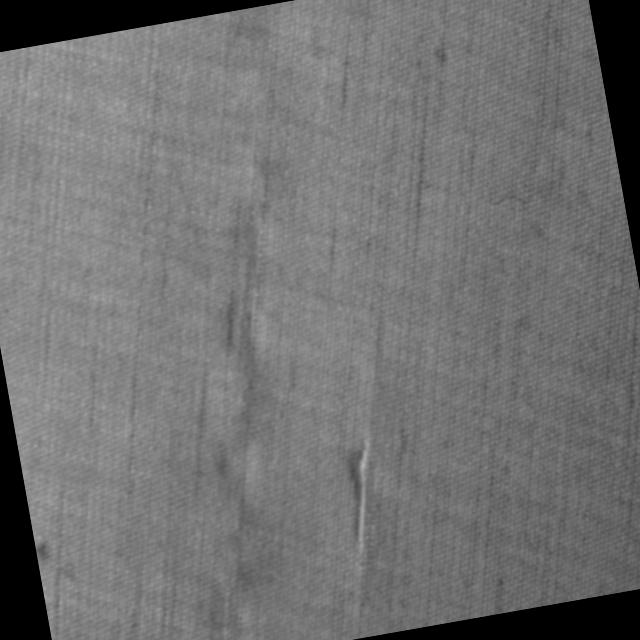thread error: (104, 64, 380, 640), (328, 426, 392, 560)
